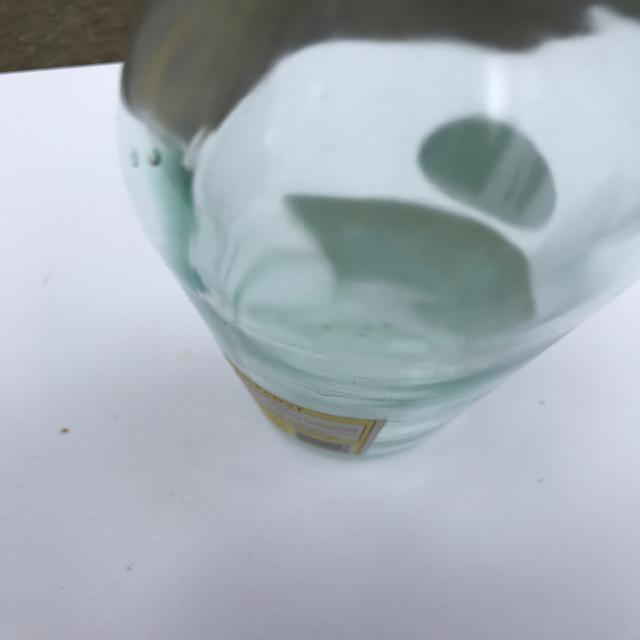glass: (115, 0, 640, 462)
